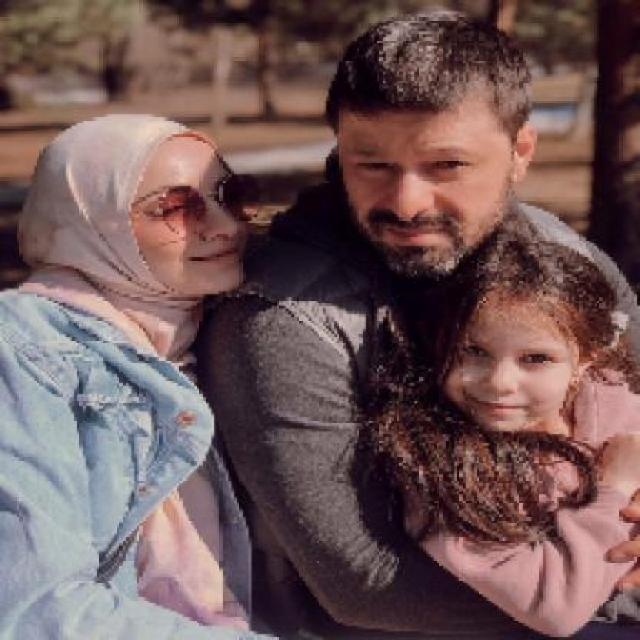child: (365, 227, 640, 638)
